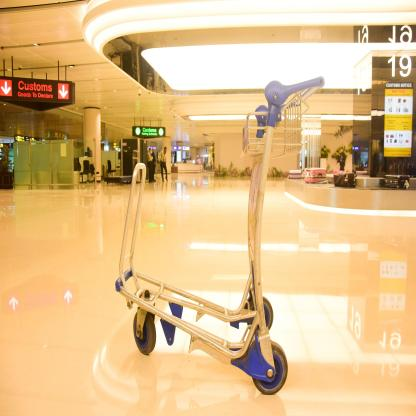airport-trolley: (114, 74, 325, 397)
